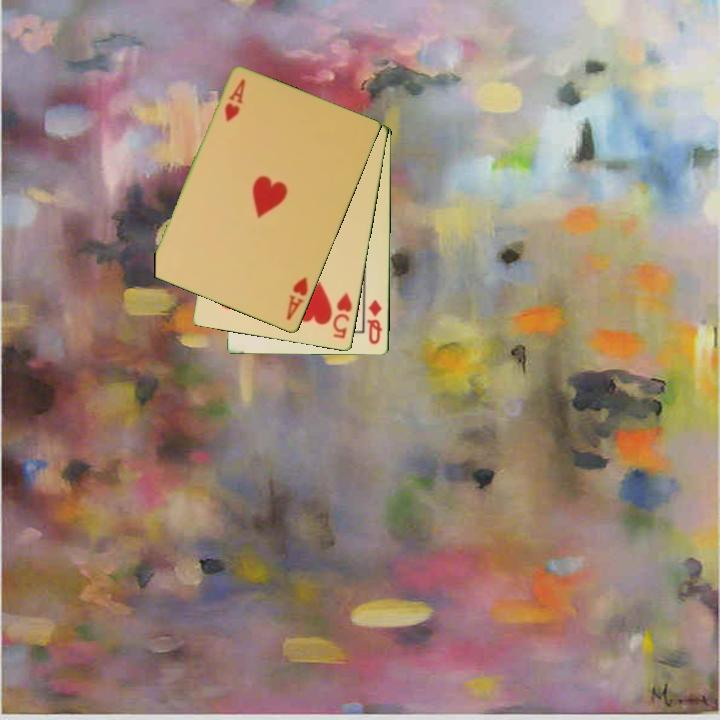5h: (329, 289, 355, 342)
Ah: (283, 273, 311, 324), (221, 76, 248, 125)
Qd: (364, 296, 385, 347)
